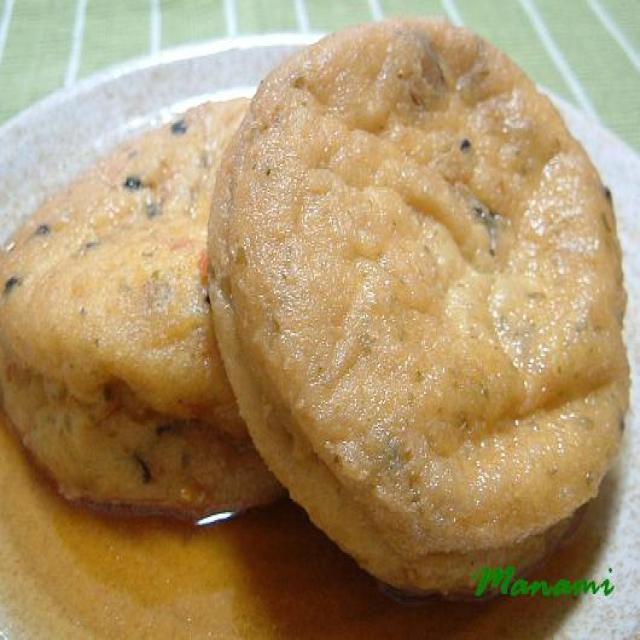熟制海鲜: (0, 31, 640, 571)
